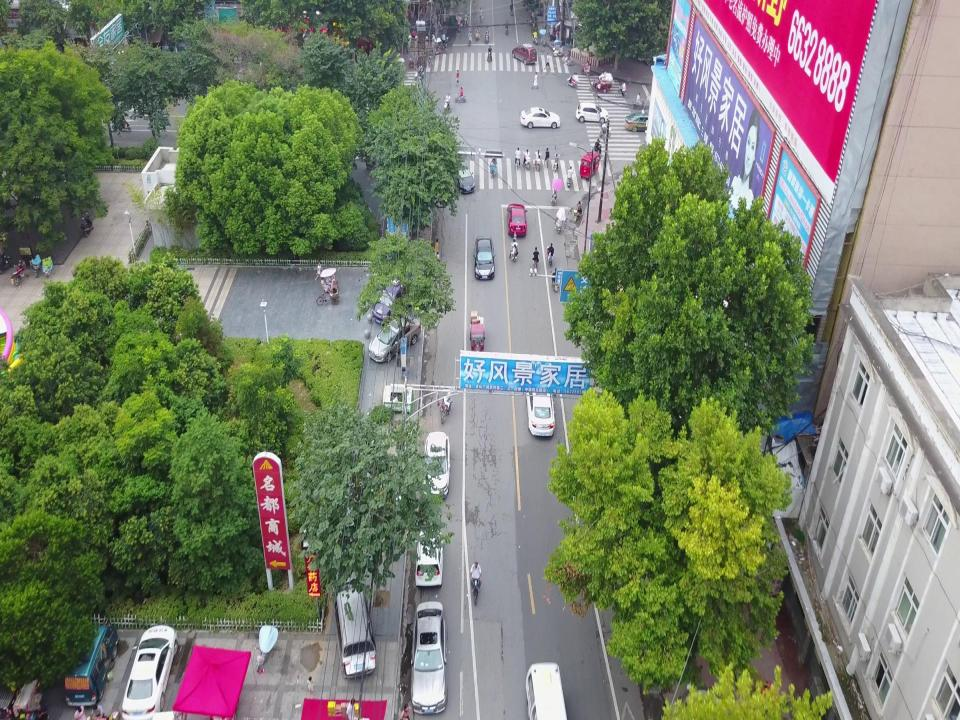car: (121, 624, 177, 720), (332, 579, 378, 679), (409, 600, 447, 714), (523, 660, 568, 720), (368, 315, 420, 362), (524, 368, 556, 438), (371, 280, 414, 322), (414, 531, 446, 587), (424, 432, 450, 499), (444, 158, 476, 194), (473, 235, 495, 281), (520, 107, 560, 128), (505, 203, 528, 237), (625, 111, 659, 133), (575, 102, 609, 122), (511, 43, 537, 65)
van: (63, 621, 119, 707)
